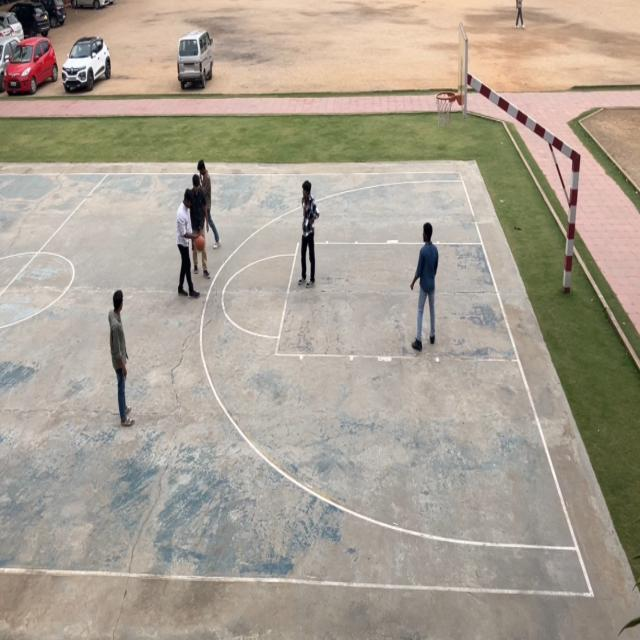basketball: (194, 229, 207, 251)
hoop: (435, 90, 455, 126)
